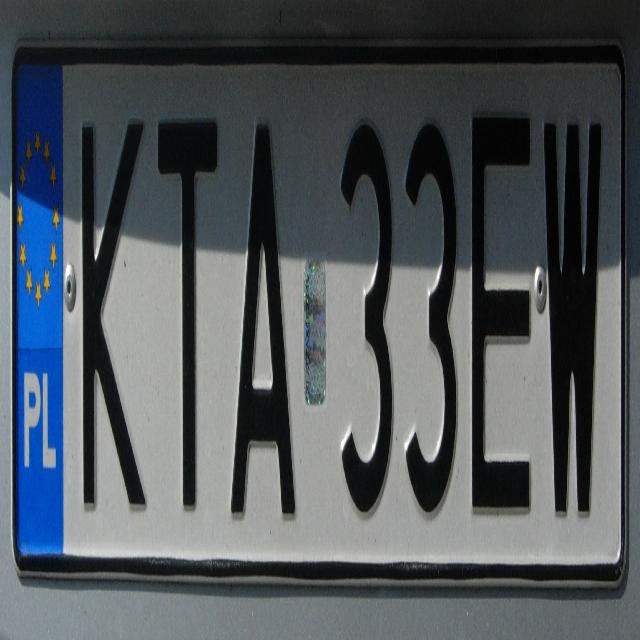pl_license_plate: (14, 54, 625, 582)
